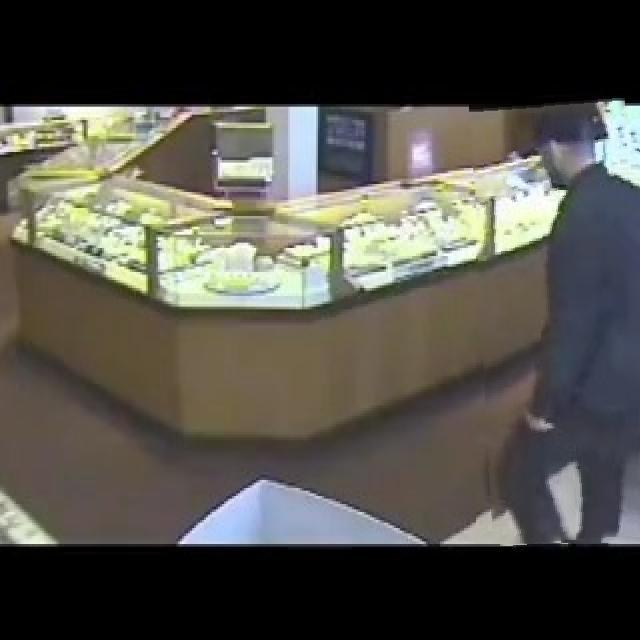Normal: (476, 95, 640, 544)
